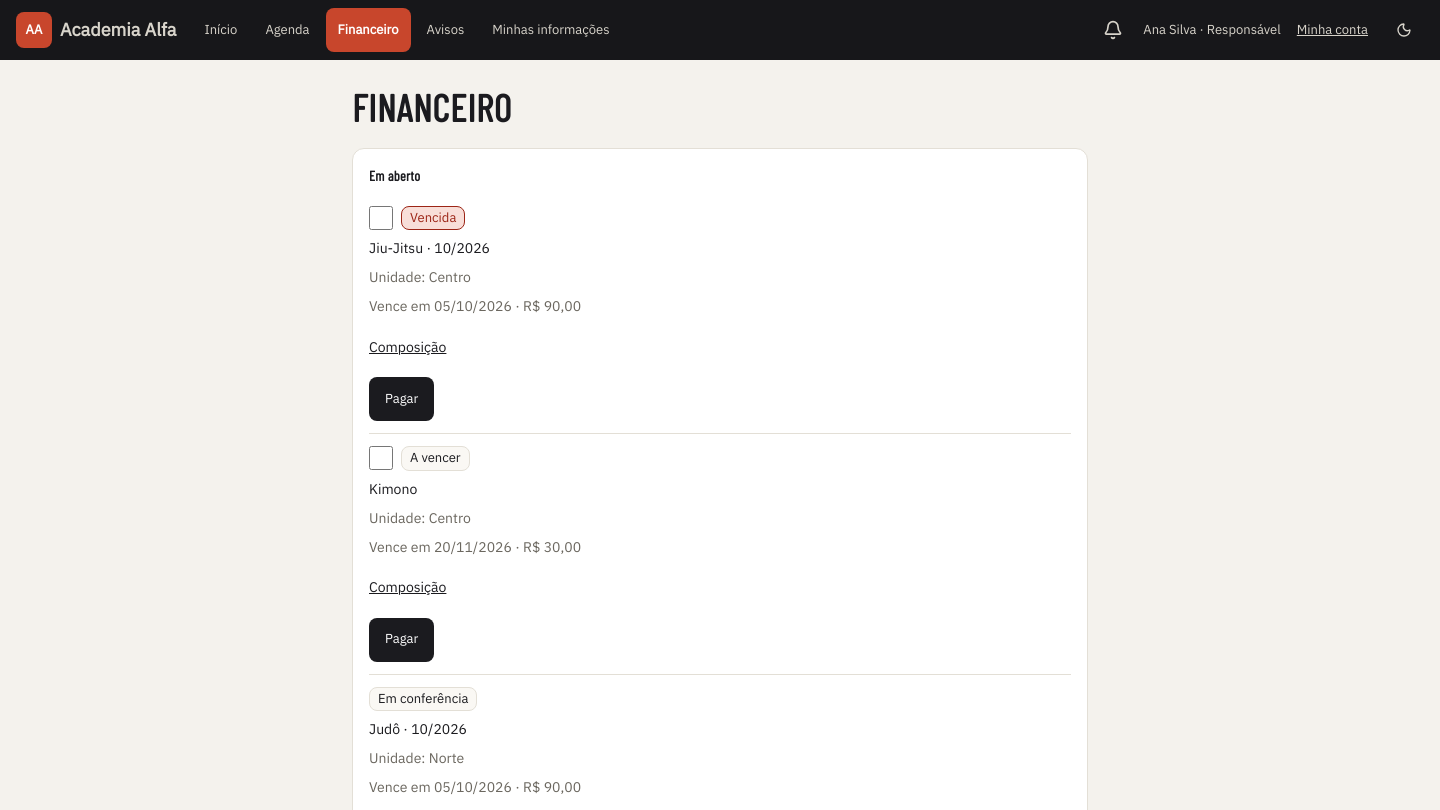
PortalFinancePage (RF-POR-05) › CA9: Pagar numa cobrança abre o diálogo com uma só
Click the button with aria-label "Pagar Kimono". click: (402, 640)
box: [369, 618, 434, 662]
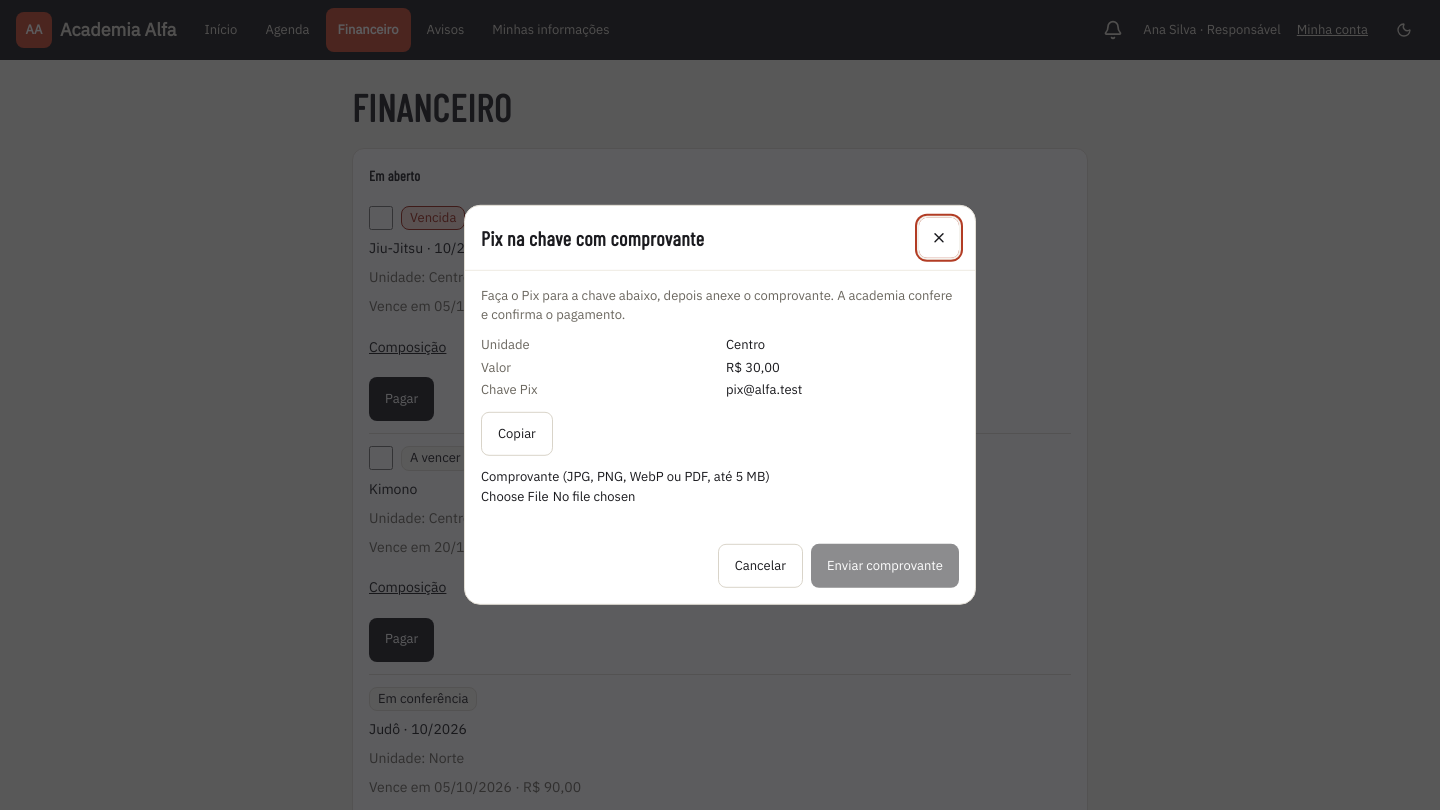
Expected: the text "R$ 30,00" is shown, [726, 358, 780, 376]
